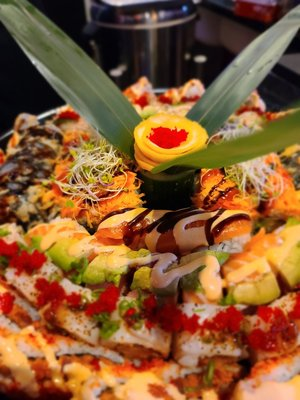sandwich: (1, 77, 299, 399)
